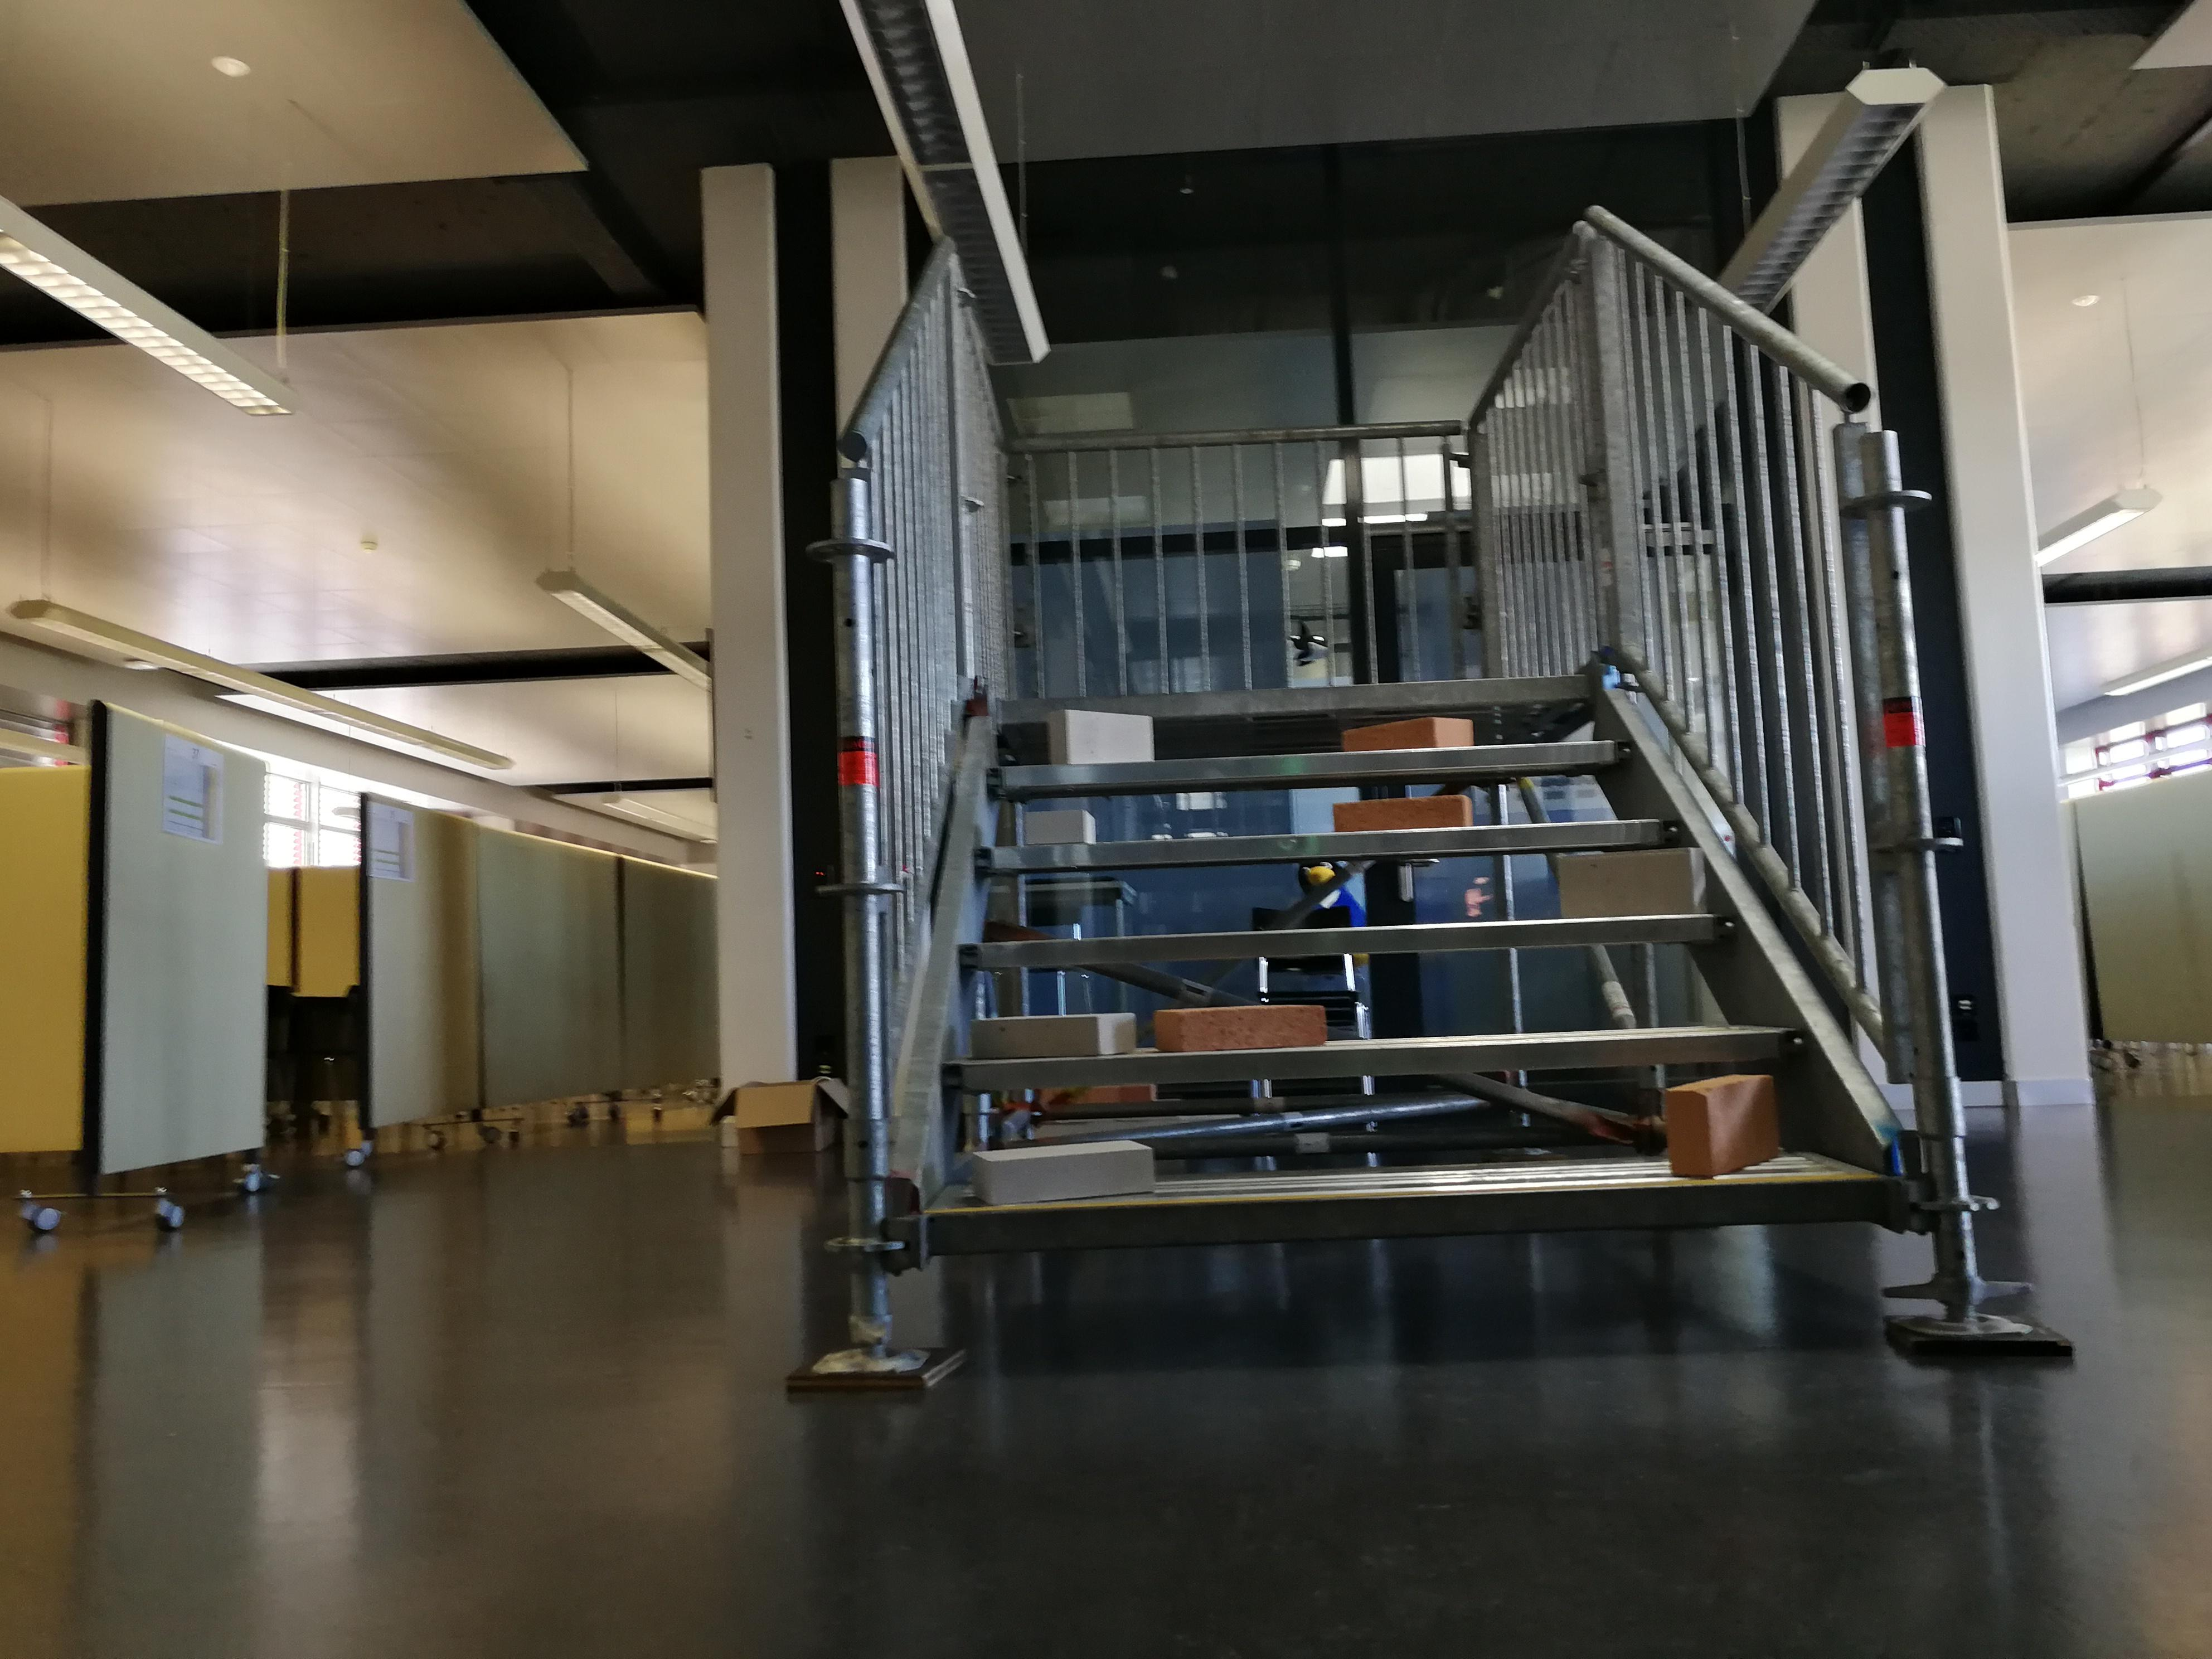brick: (1669, 1075, 1780, 1175), (979, 1143, 1153, 1201), (1559, 849, 1703, 915), (1155, 1002, 1324, 1053), (972, 1009, 1137, 1053), (1045, 706, 1148, 767), (1332, 795, 1472, 831), (1346, 714, 1468, 751), (1024, 810, 1094, 845)
edge: (921, 1182, 1888, 1256), (942, 1033, 1785, 1093), (960, 910, 1747, 969), (968, 817, 1683, 871), (979, 739, 1634, 788), (993, 676, 1599, 720)
stairs: (779, 207, 2076, 1398)
steps: (913, 660, 1902, 1269)
